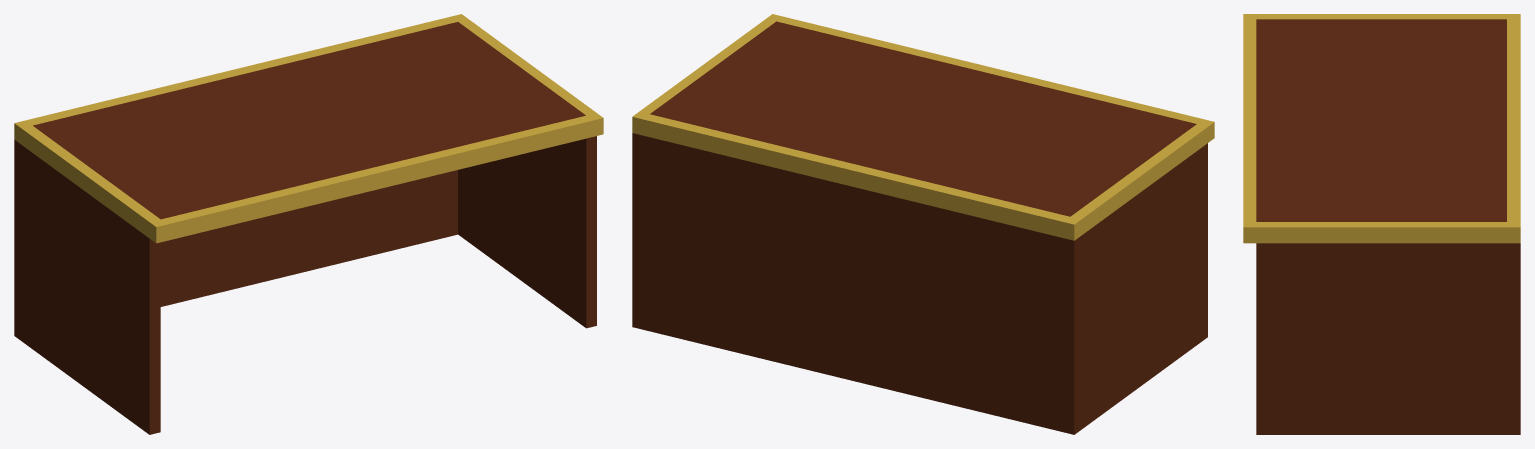
The model's file is Desk 1.fbx.
3 views of the same model, side by side, from view 1: azimuth 30°, elevation 25°; view 2: azimuth 150°, elevation 25°; view 3: azimuth 270°, elevation 25° (orthographic). The views are drawn at different scales.
Parts seen in each view (by area): view 1: Desk; view 2: Desk; view 3: Desk.
Boxes of the visible parts, x1,y1,x2,y2 form: Desk: [14, 14, 603, 434]; Desk: [632, 14, 1214, 434]; Desk: [1243, 14, 1520, 434].
Bounding box in the file's own units: 5720 × 2600 × 3146.
